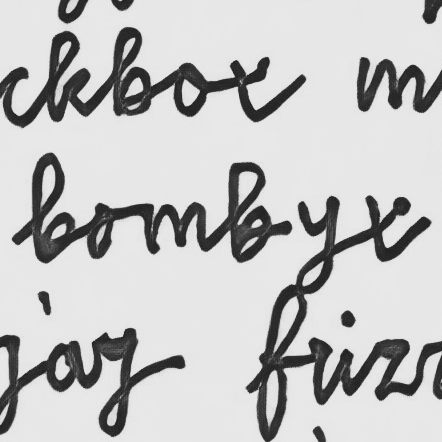b: (28, 149, 79, 265), (225, 160, 274, 264)
m: (142, 199, 210, 257)
o: (82, 200, 118, 261)
x: (353, 192, 413, 265)
y: (294, 194, 341, 295)
